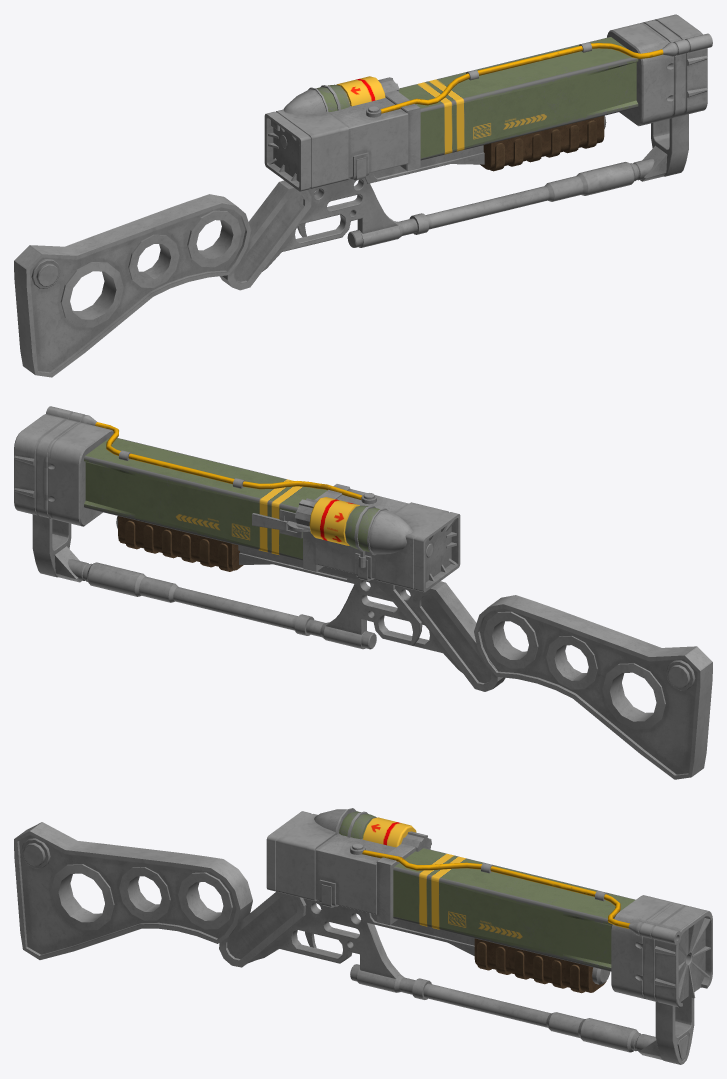
The model's file is turret.gltf.
3 views of the same model, one above another, from view 1: azimuth 30°, elevation 25°; view 2: azimuth 150°, elevation 25°; view 3: azimuth 330°, elevation 25° (orthographic).
Visible parts, largest first — view 1: LaserRifle; view 2: LaserRifle; view 3: LaserRifle.
Part boxes in pixels (x1=…): LaserRifle: x1=14, y1=14, x2=712, y2=377; LaserRifle: x1=14, y1=406, x2=712, y2=779; LaserRifle: x1=14, y1=808, x2=712, y2=1064.
Size of the model in its own units: 13.64 by 3.97 by 1.69.
Materials: 1 (1 with a texture image).
